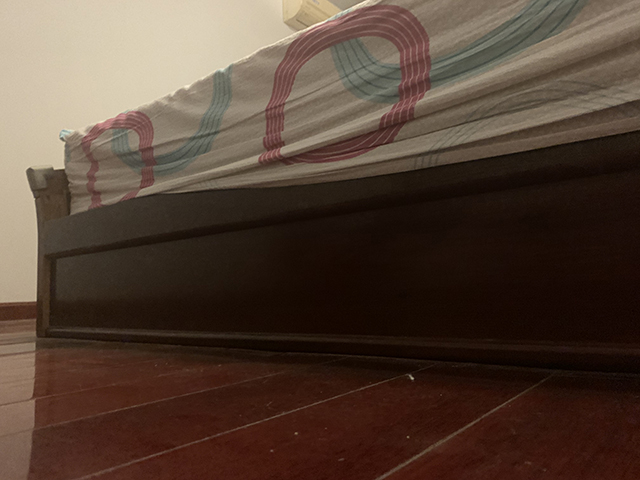bed: (24, 1, 640, 378)
